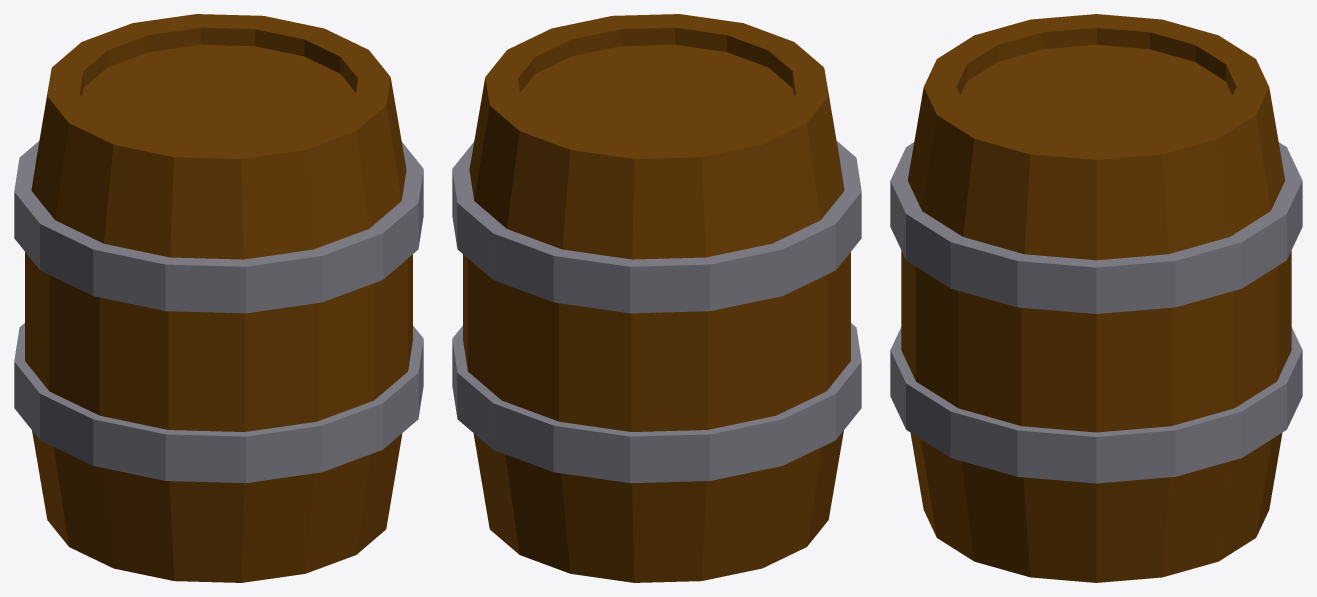
File: Barrel.fbx
The picture shows the model from 3 angles, left to right: view 1: azimuth 30°, elevation 25°; view 2: azimuth 150°, elevation 25°; view 3: azimuth 270°, elevation 25°; orthographic projection.
Visible parts, largest first — view 1: Barrel; view 2: Barrel; view 3: Barrel.
Boxes of the visible parts, <box> form: Barrel: <box>14,14,423,582</box>; Barrel: <box>452,14,861,582</box>; Barrel: <box>890,14,1302,582</box>.
Size of the model in its own units: 288 by 326 by 288.
